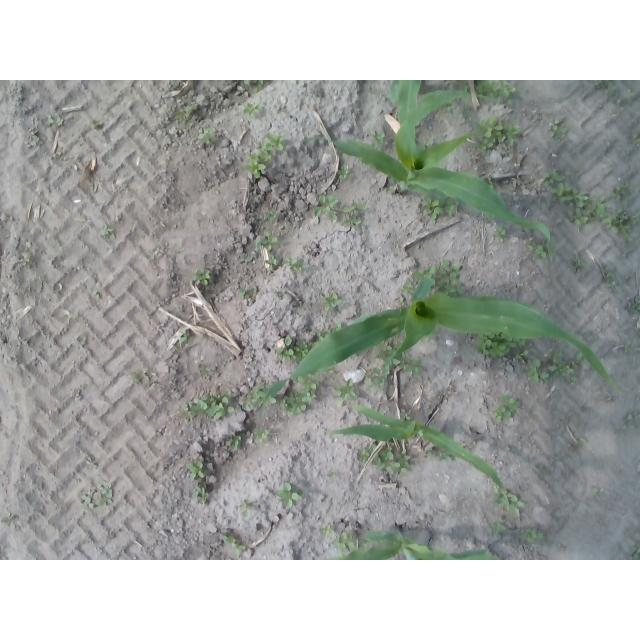Maize: (256, 275, 622, 428), (303, 89, 556, 263), (330, 403, 510, 509), (325, 525, 502, 560), (389, 80, 423, 145)
Weeds: (545, 168, 640, 244), (365, 346, 423, 391), (243, 130, 284, 178), (313, 193, 368, 228), (360, 443, 412, 478), (472, 119, 520, 153), (183, 392, 238, 419), (548, 348, 584, 385), (437, 256, 468, 297), (242, 379, 279, 413), (475, 335, 526, 358), (488, 392, 520, 425), (422, 195, 462, 221), (475, 80, 516, 105), (275, 480, 305, 512), (275, 334, 309, 362), (491, 488, 525, 516), (281, 392, 319, 417), (80, 481, 112, 508), (333, 377, 356, 410), (617, 409, 640, 440), (523, 359, 549, 386), (547, 117, 571, 144), (334, 531, 359, 555), (221, 535, 248, 557), (127, 369, 158, 388), (323, 290, 346, 314), (172, 329, 196, 352), (603, 265, 622, 294), (255, 231, 282, 251), (235, 498, 261, 518), (527, 239, 550, 260), (185, 460, 207, 480), (569, 253, 589, 275), (199, 126, 219, 147), (190, 268, 212, 286), (241, 104, 267, 119), (521, 529, 546, 544), (595, 80, 618, 96), (226, 435, 245, 454), (369, 131, 389, 149), (283, 258, 310, 271), (625, 293, 640, 316), (337, 163, 356, 181), (253, 427, 272, 445), (174, 105, 194, 122), (25, 126, 41, 147), (297, 375, 319, 390), (192, 486, 211, 503), (240, 284, 260, 300), (489, 518, 507, 535), (45, 113, 65, 128), (317, 523, 335, 539), (244, 248, 260, 265), (244, 80, 264, 93), (264, 255, 281, 270), (265, 207, 280, 223), (99, 222, 114, 238), (198, 363, 215, 377), (495, 225, 508, 243), (152, 247, 165, 265), (3, 514, 22, 526), (401, 281, 415, 296), (412, 269, 425, 283), (630, 542, 640, 560), (438, 453, 454, 464), (400, 409, 413, 422), (541, 463, 552, 477), (422, 267, 436, 278), (515, 350, 530, 360), (327, 470, 339, 482), (424, 448, 436, 460), (422, 136, 434, 148), (20, 253, 33, 263), (631, 131, 640, 144), (92, 119, 102, 130), (629, 88, 636, 102), (388, 185, 396, 196), (578, 438, 587, 447), (92, 290, 100, 300), (428, 335, 439, 342), (447, 104, 454, 115), (175, 247, 186, 254), (488, 176, 494, 188), (569, 443, 576, 453), (591, 486, 599, 494), (328, 368, 337, 375), (463, 85, 470, 91)
